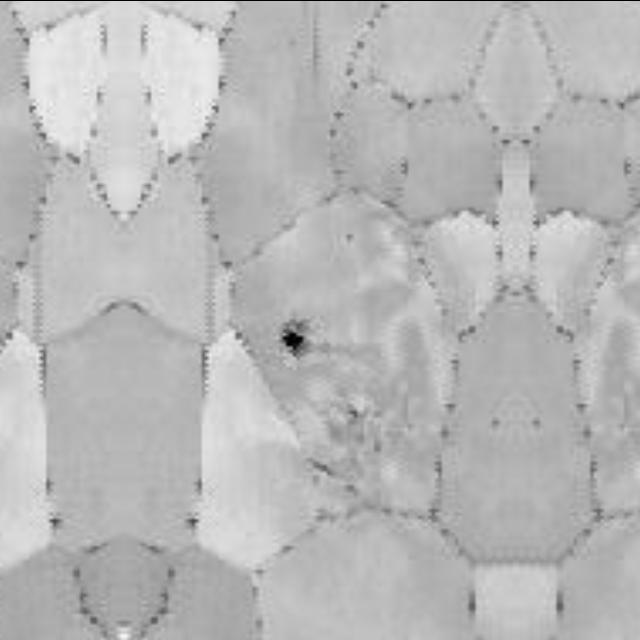good_void: (281, 316, 314, 356)
